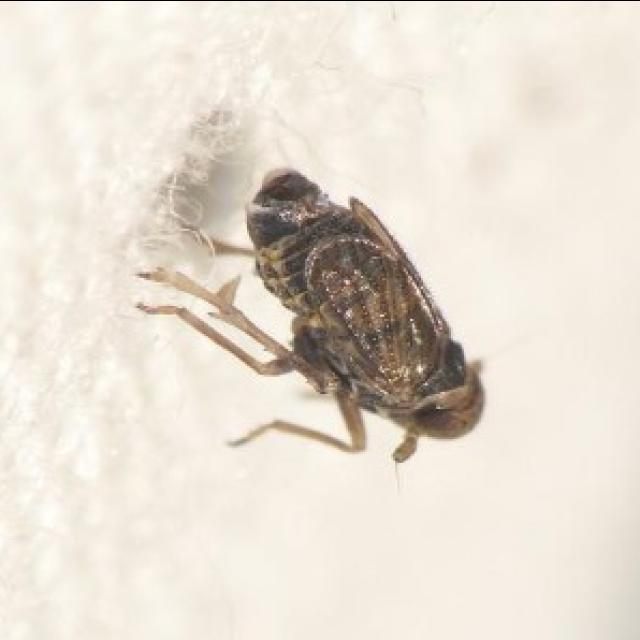brown plant hopper: (142, 172, 485, 462)
